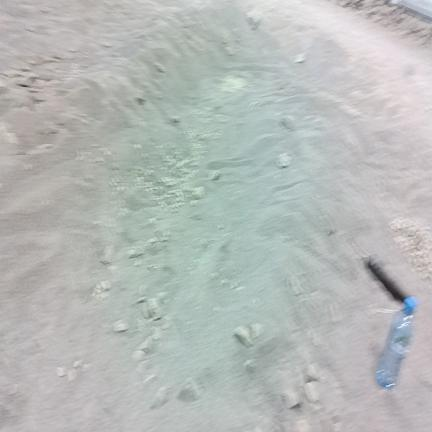Rock: (178, 378, 200, 402), (143, 298, 163, 320), (234, 326, 253, 347), (151, 387, 168, 409), (304, 381, 320, 403), (283, 389, 301, 408), (136, 337, 155, 354), (304, 363, 320, 382), (247, 11, 261, 30), (136, 352, 148, 373), (101, 246, 114, 264), (276, 153, 291, 168), (250, 323, 262, 339), (296, 419, 311, 431), (114, 320, 129, 332), (191, 187, 205, 199), (128, 247, 143, 258), (132, 350, 146, 361), (209, 170, 220, 180), (68, 369, 77, 381), (295, 53, 305, 63), (57, 367, 66, 377)
